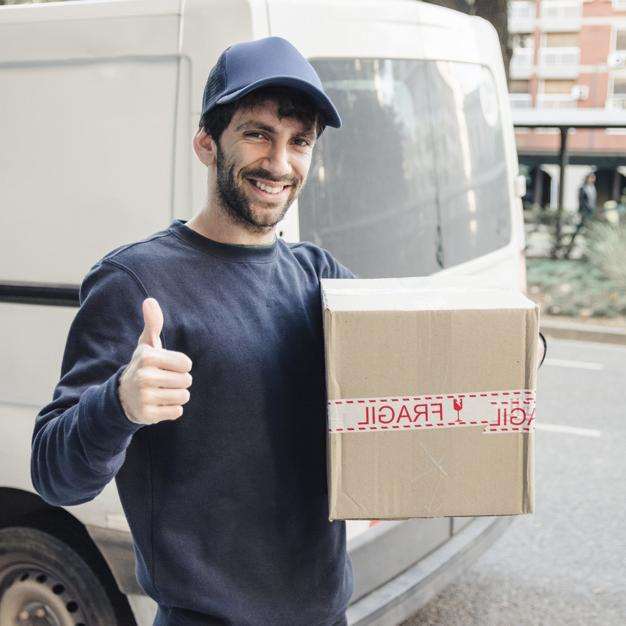thumbsup: (134, 298, 194, 423)
